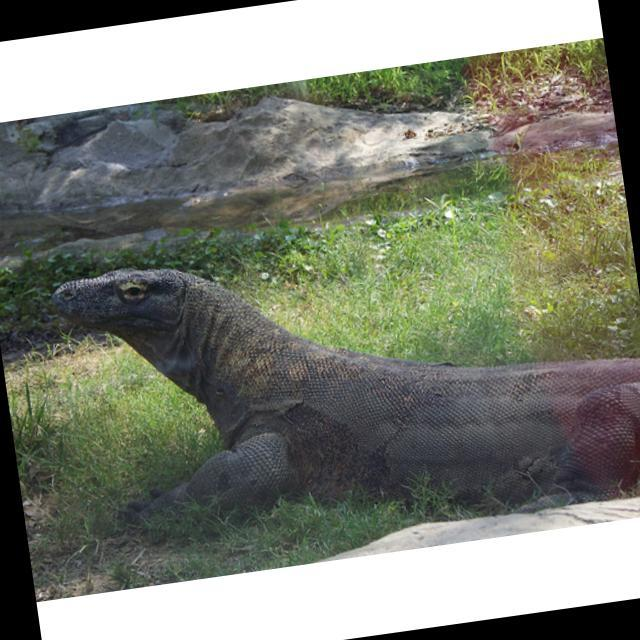KomodoDragon: (44, 193, 640, 575)
